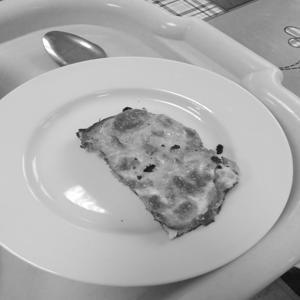cheese_sandwich: (62, 100, 252, 252)
